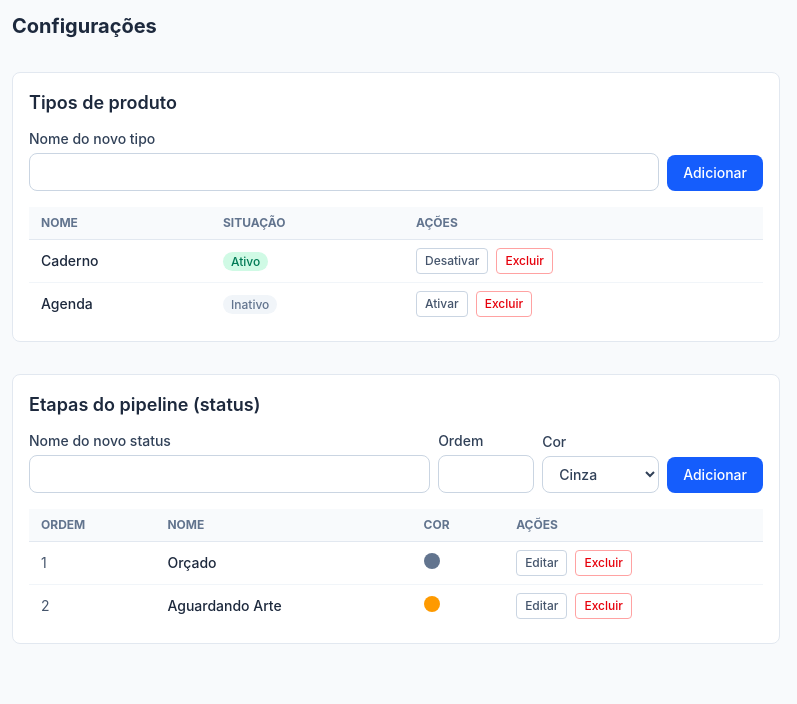
ConfigPage — status do pipeline (RF03) › adiciona novo status com ordem e cor
This screenshot has width=797, height=704.
Type "Em Produção" into the field labelled "Nome do novo status" at coordinates (230, 474), box [29,455,430,493]
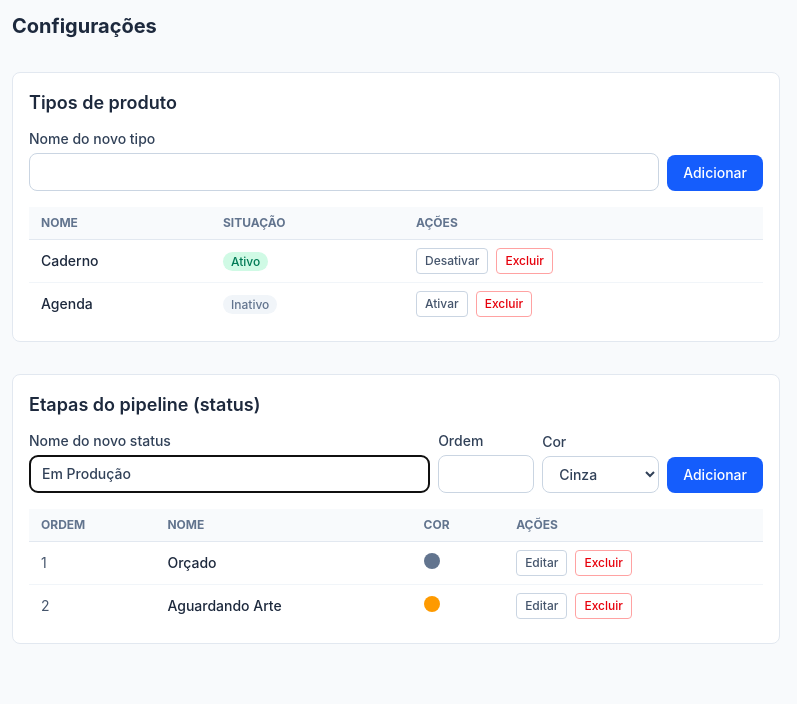
Type "3" into the number field labelled "Ordem" at coordinates (486, 474), box [438,455,534,493]
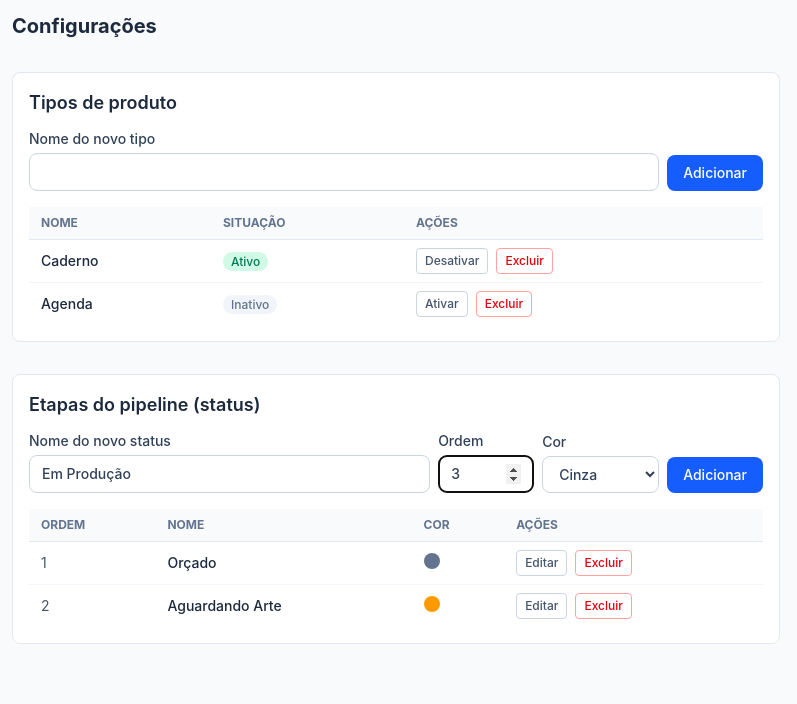
Select "Azul" in the dropdown labelled "Cor" at coordinates (601, 474), box [542,456,659,493]
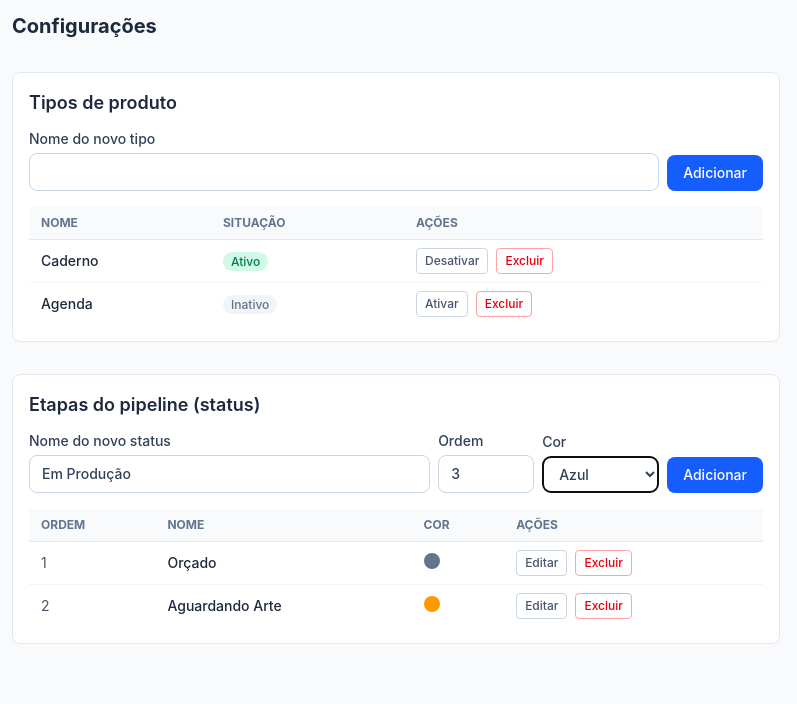
Click the 2nd button "Adicionar" at coordinates (715, 475), box [667,457,763,493]
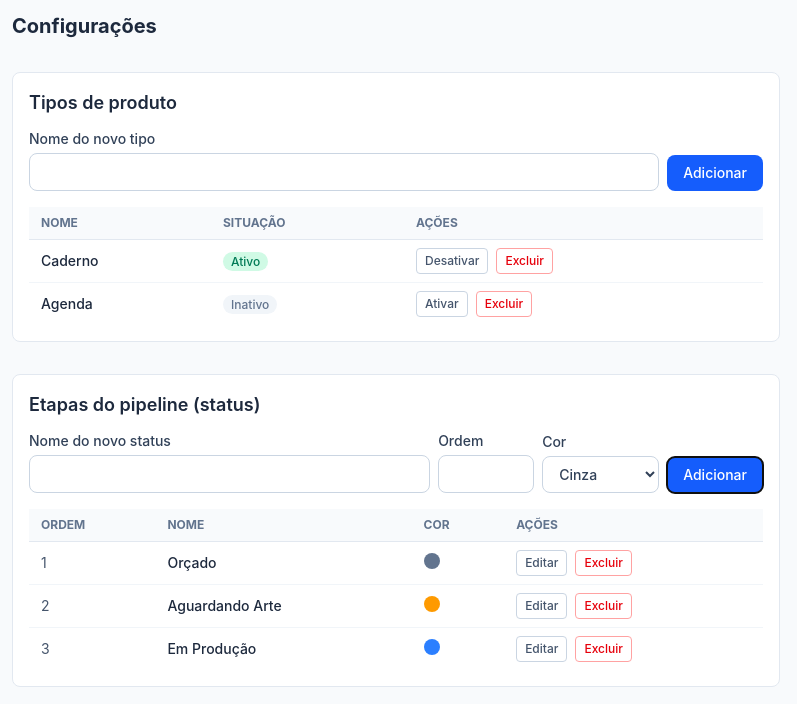
Check: the text "Em Produção" is shown, box [155,628,412,670]
